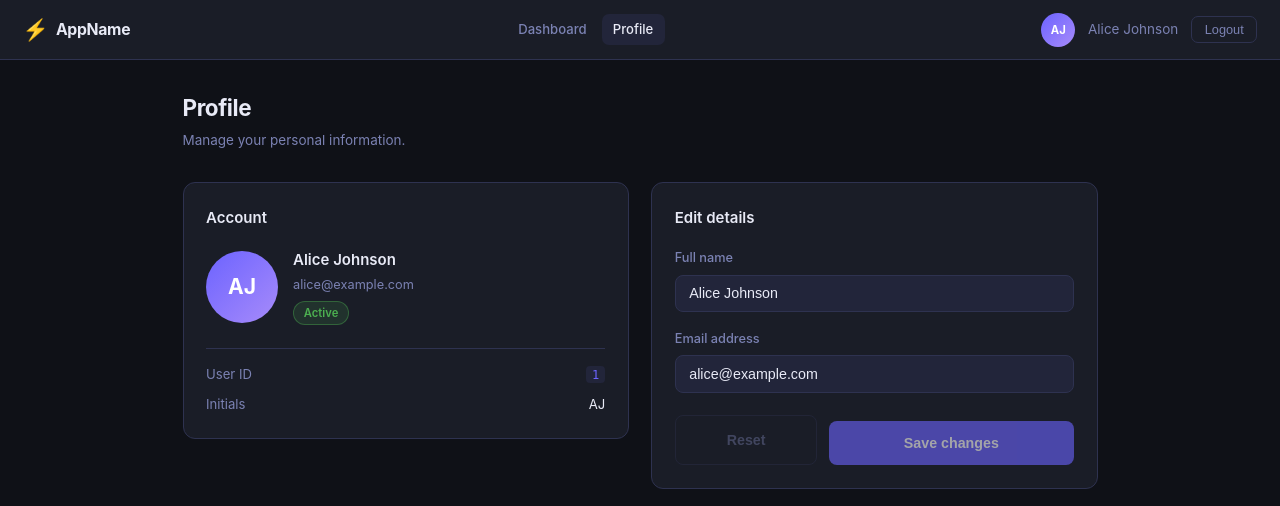
Scenario: ProfilePage — dirty state › disables Save again when changes are reverted to original values
Replace the text in the field labelled "Full name" with "Alice Smith": (874, 293) [675, 275, 1074, 312]
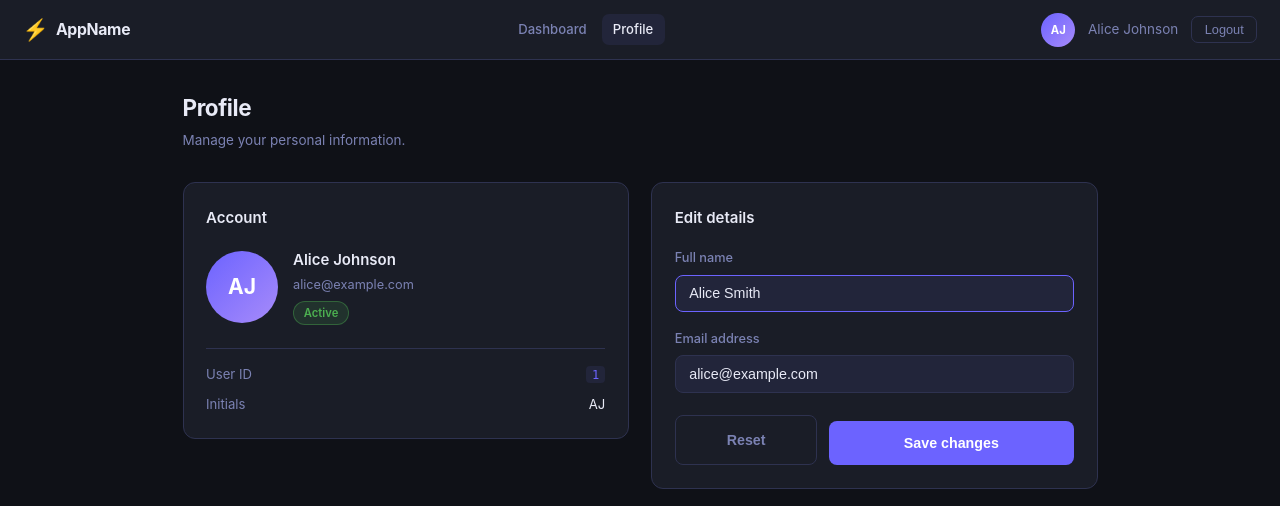
Note: Now revert
Replace the text in the field labelled "Full name" with "Alice Johnson": (874, 293) [675, 275, 1074, 312]
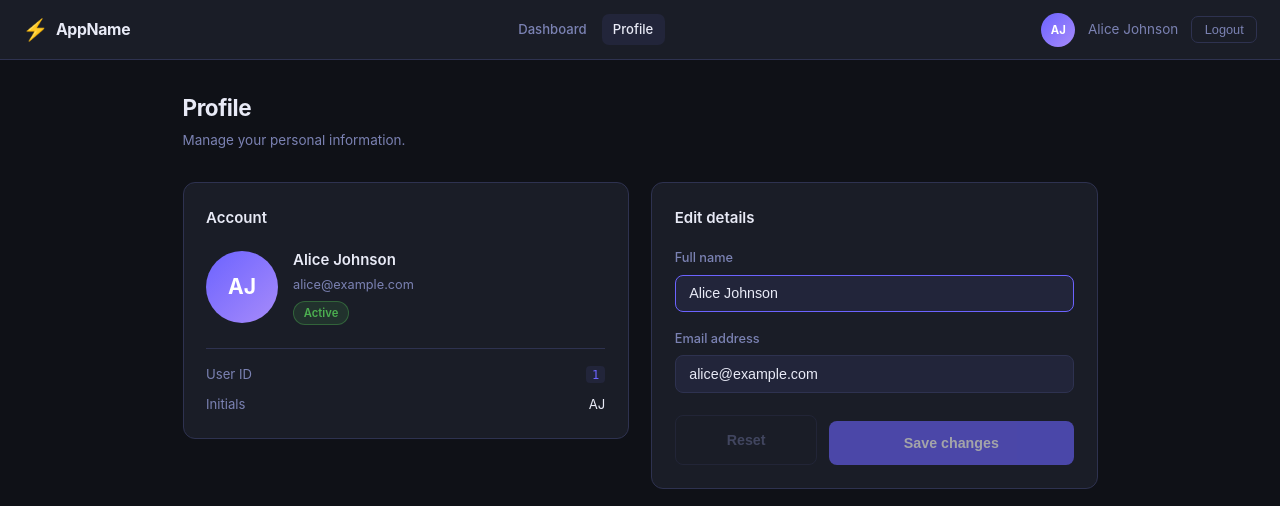
Result: the button "Save changes" is disabled at [829, 421, 1074, 465]
